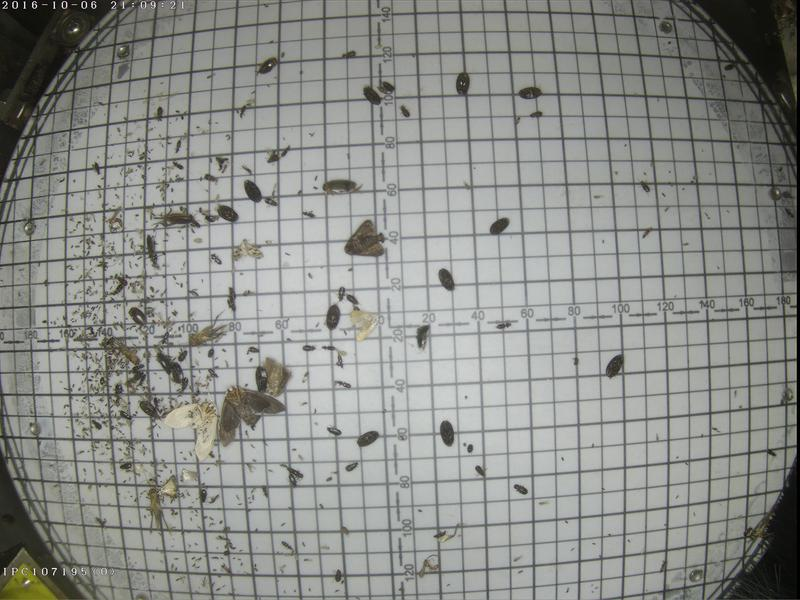Rice Leaf Roller: (157, 474, 180, 501)
